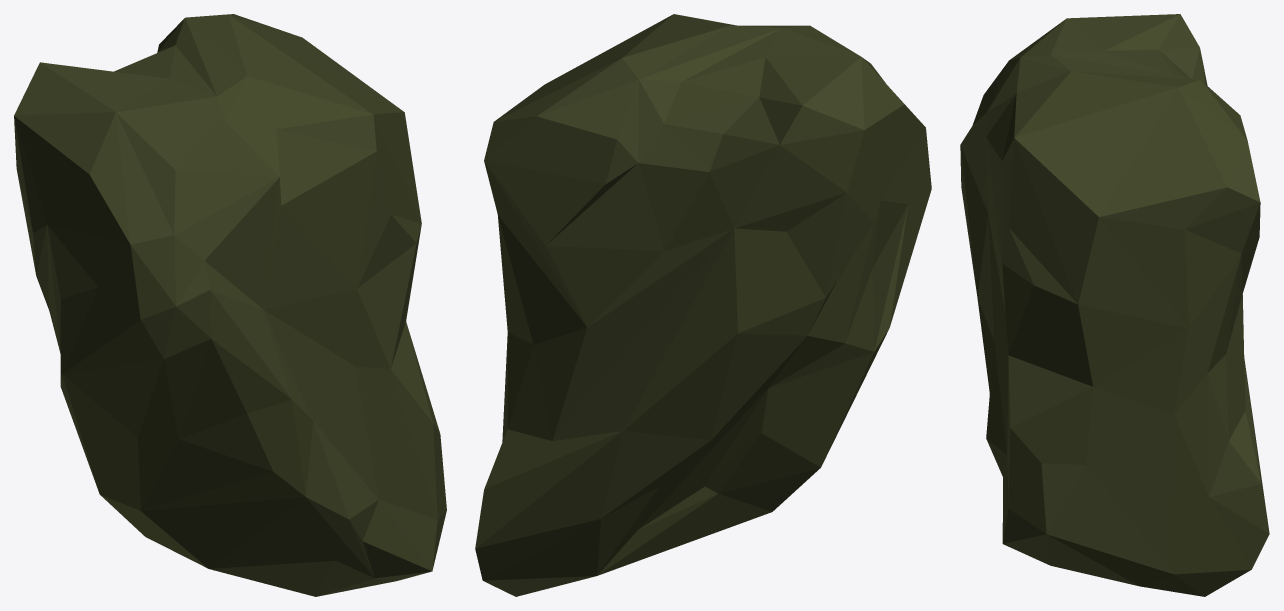
The model's file is SM_small_rock_30.fbx.
The picture shows the model from 3 angles, left to right: view 1: azimuth 30°, elevation 25°; view 2: azimuth 150°, elevation 25°; view 3: azimuth 270°, elevation 25°; orthographic projection. The views are drawn at different scales.
Parts seen in each view (by area): view 1: small_rock_30; view 2: small_rock_30; view 3: small_rock_30.
Boxes of the visible parts, bbox=[...] form: small_rock_30: bbox=[14, 14, 446, 596]; small_rock_30: bbox=[475, 14, 931, 596]; small_rock_30: bbox=[960, 14, 1269, 596].
Size of the model in its own units: 12.22 by 17.87 by 10.63.
